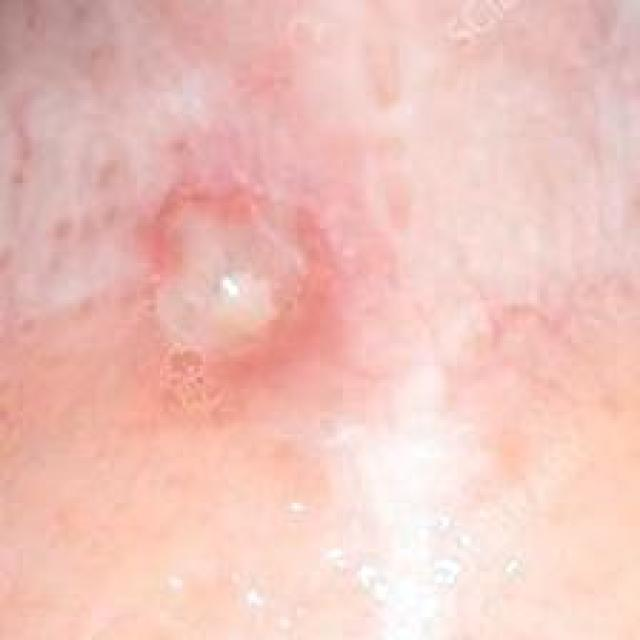others: (39, 8, 586, 604)
